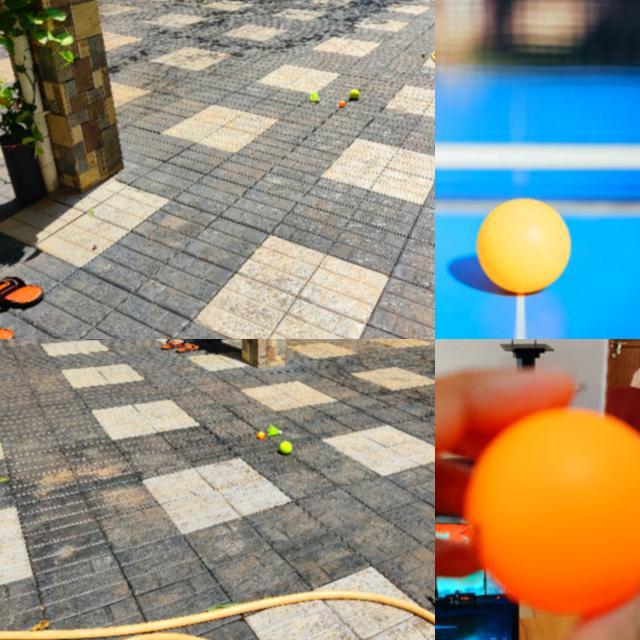ping-pong-ball: (461, 408, 639, 614), (476, 197, 570, 291), (339, 100, 347, 108), (256, 432, 264, 438)
